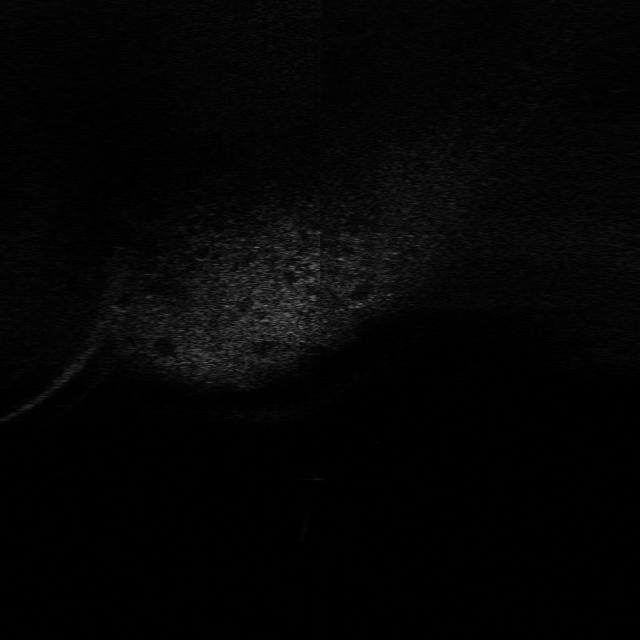cube: (286, 456, 342, 484)
